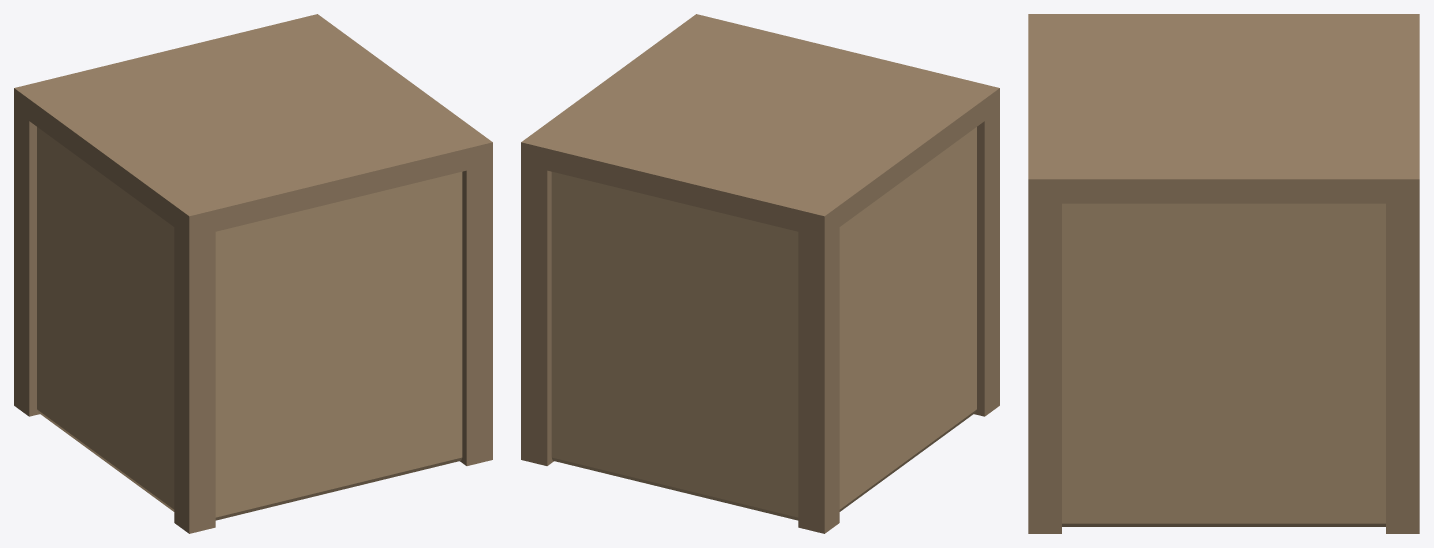
File: bt-hw-crate.glb
3 views of the same model, side by side, from view 1: azimuth 30°, elevation 25°; view 2: azimuth 150°, elevation 25°; view 3: azimuth 270°, elevation 25° (orthographic). The views are drawn at different scales.
Parts seen in each view (by area): view 1: bt-hw-crate_box, bt-hw-crate_lid, bt-hw-crate_cor-1_1, bt-hw-crate_cor1_1, bt-hw-crate_cor-1_-1; view 2: bt-hw-crate_box, bt-hw-crate_lid, bt-hw-crate_cor-1_-1, bt-hw-crate_cor1_-1, bt-hw-crate_cor-1_1; view 3: bt-hw-crate_box, bt-hw-crate_lid, bt-hw-crate_cor1_1, bt-hw-crate_cor1_-1.
Boxes of the visible parts, <box> form: bt-hw-crate_box: <box>37,127,462,520</box>; bt-hw-crate_lid: <box>14,14,492,237</box>; bt-hw-crate_cor-1_1: <box>174,222,215,533</box>; bt-hw-crate_cor1_1: <box>460,162,492,465</box>; bt-hw-crate_cor-1_-1: <box>14,110,39,416</box>; bt-hw-crate_box: <box>551,127,976,520</box>; bt-hw-crate_lid: <box>521,14,999,237</box>; bt-hw-crate_cor-1_-1: <box>798,222,839,533</box>; bt-hw-crate_cor1_-1: <box>521,159,553,465</box>; bt-hw-crate_cor-1_1: <box>974,110,999,416</box>; bt-hw-crate_box: <box>1062,203,1385,526</box>; bt-hw-crate_lid: <box>1028,14,1419,203</box>; bt-hw-crate_cor1_1: <box>1028,197,1061,533</box>; bt-hw-crate_cor1_-1: <box>1386,197,1419,533</box>.
Size of the model in its own units: 1.16 by 1.16 by 1.16.
